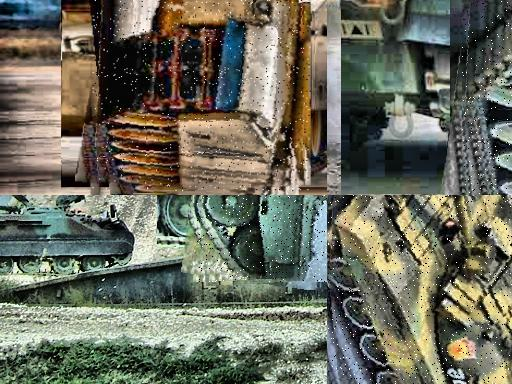tanks: (94, 1, 312, 192), (330, 196, 512, 384), (198, 196, 328, 283), (1, 196, 136, 276), (464, 1, 512, 196)
